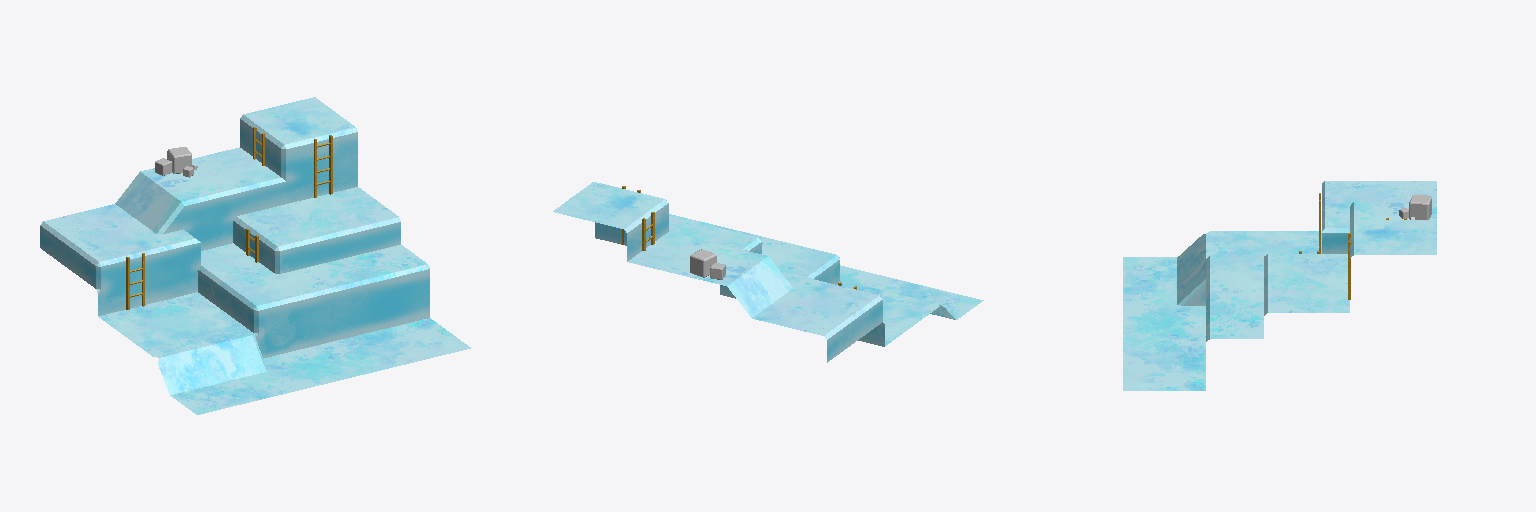
3 renders of one model, left to right at view 1: azimuth 30°, elevation 25°; view 2: azimuth 150°, elevation 25°; view 3: azimuth 270°, elevation 25°, orthographic.
Visible parts, largest first — view 1: Cube.225, Hielo.005; view 2: Cube.225, Hielo.005; view 3: Cube.225, Hielo.005.
Boxes of the visible parts, box(x1,y1,x2,y2) form: Cube.225: box(40, 97, 470, 414); Hielo.005: box(155, 147, 197, 177); Cube.225: box(553, 182, 983, 362); Hielo.005: box(690, 249, 725, 279); Cube.225: box(1123, 181, 1436, 390); Hielo.005: box(1399, 194, 1431, 219).
Size of the model in its own units: 99 by 47.11 by 97.99.
Materials: 2 (1 with a texture image).